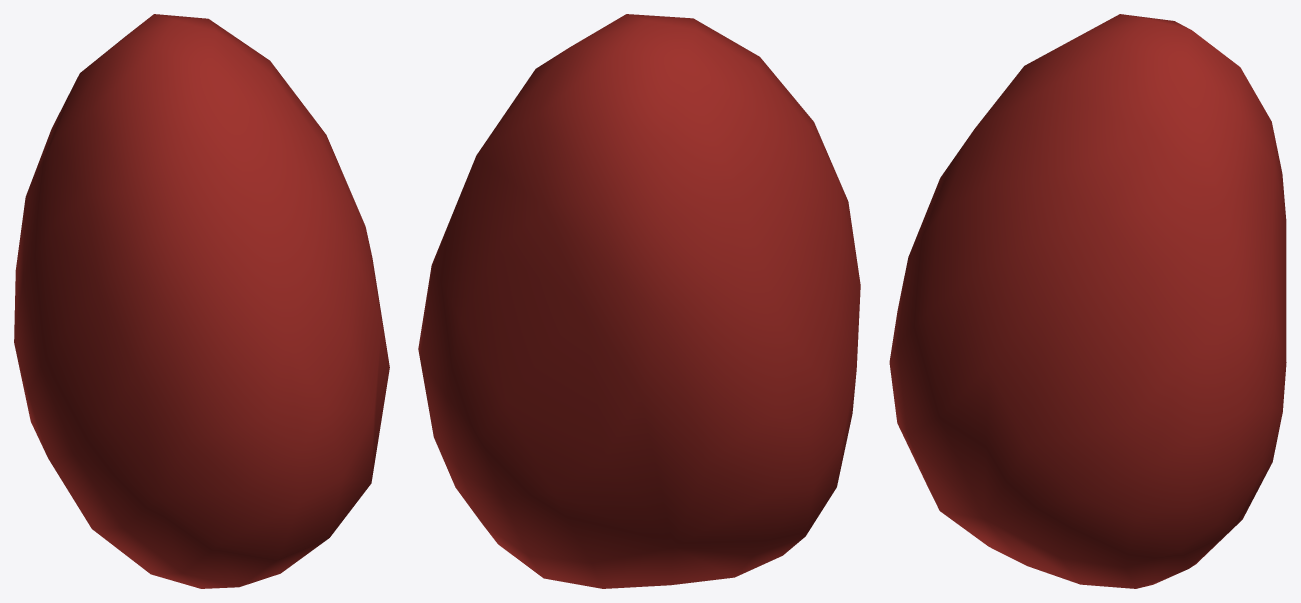
File: Organic_Blob_002.fbx
The picture shows the model from 3 angles, left to right: view 1: azimuth 30°, elevation 25°; view 2: azimuth 150°, elevation 25°; view 3: azimuth 270°, elevation 25°; orthographic projection. The views are drawn at different scales.
Parts seen in each view (by area): view 1: Cube.007; view 2: Cube.007; view 3: Cube.007.
Boxes of the visible parts, box(x1,y1,x2,y2) form: Cube.007: box(14, 14, 389, 588); Cube.007: box(418, 14, 860, 588); Cube.007: box(889, 14, 1286, 588).
Bounding box in the file's own units: 1232 × 1823 × 1239.
